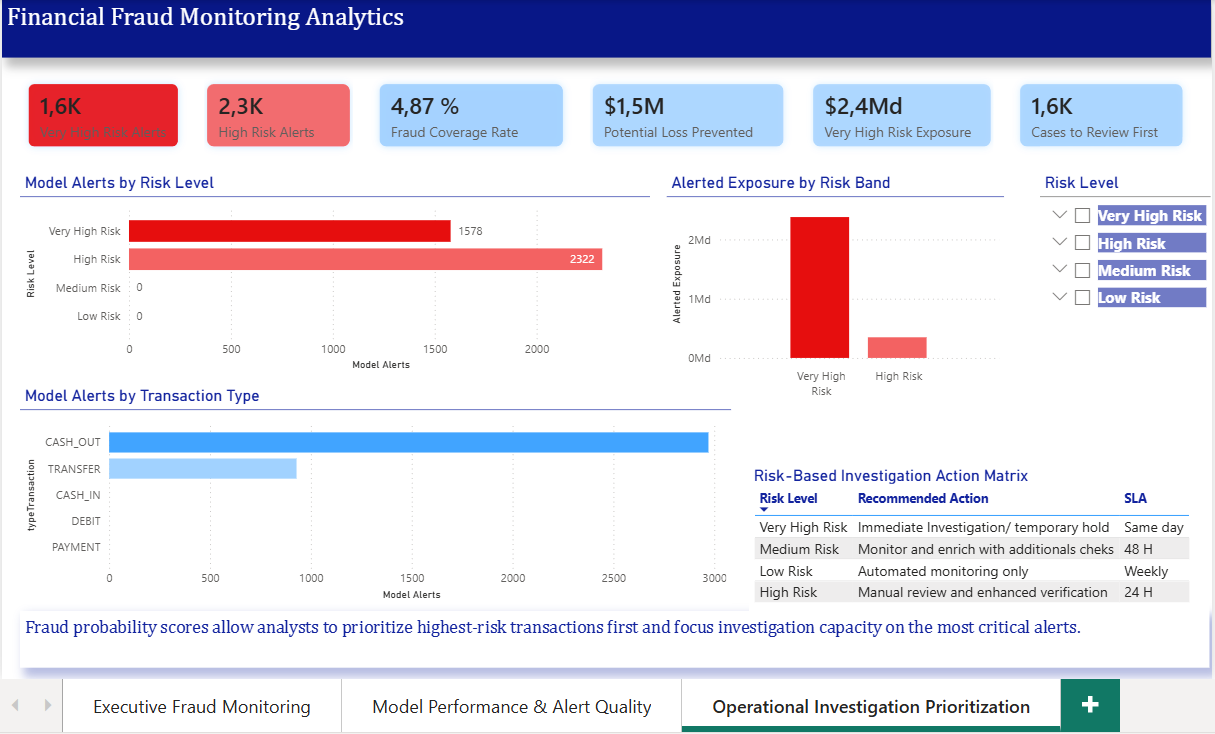

This screenshot's page, from the dashboard's own definition file:
{"tool":"powerbi","page":{"name":"Operational Investigation Prioritization","canvas":[1280,720],"ordinal":2},"visuals":[{"type":"cardVisual","fields":{"Data":["fraud_predictions.Very High Risk Exposure"]},"box":[830.2,61.9,244.4,122.2],"z":0},{"type":"cardVisual","fields":{"Data":["fraud_predictions.High Risk Alerts"]},"box":[188.9,61.9,207.9,122.2],"z":1000},{"type":"slicer","title":"Risk Level","fields":{"Values":["fraud_predictions.Risk Band","fraud_predictions.Risk Order"]},"box":[1098.4,184.1,181,246],"z":3000},{"type":"cardVisual","fields":{"Data":["fraud_predictions.Cases to Review First"]},"box":[1049.2,61.9,228.6,122.2],"z":4000},{"type":"cardVisual","fields":{"Data":["fraud_predictions.Avg Fraud Amount"]},"box":[596.8,61.9,258.7,122.2],"z":5000},{"type":"clusteredBarChart","title":"Model Alerts by Risk Level","fields":{"Category":["fraud_predictions.Risk Band"],"Y":["fraud_predictions.Model Alerts"]},"box":[19,184.1,666.7,212.7],"z":6000},{"type":"cardVisual","fields":{"Data":["fraud_predictions.Average Fraud Probability"]},"box":[371.4,61.9,250.8,122.2],"z":7000},{"type":"textbox","box":[19,647.6,1258.7,60.3],"z":8000},{"type":"cardVisual","fields":{"Data":["fraud_predictions.Very High Risk Alerts"]},"box":[0,61.9,214.3,122.2],"z":9000},{"type":"columnChart","title":"Alerted Exposure by Risk Band","fields":{"Category":["fraud_predictions.Risk Band"],"Y":["fraud_predictions.Alerted Exposure"]},"box":[703.2,184.1,357.1,246],"z":10000},{"type":"clusteredBarChart","title":"Model Alerts by Transaction Type","fields":{"Category":["fraud_predictions.typeTransaction"],"Y":["fraud_predictions.Model Alerts"]},"box":[19,409.5,752.4,230.2],"z":11000},{"type":"tableEx","title":"Risk-Based Investigation Action Matrix","fields":{"Values":["Table.Colonne 1","Table.Colonne 2","Table.Colonne 3"]},"box":[790.5,493.7,487.3,154],"z":12000},{"type":"textbox","box":[0,0,1279.4,61.8],"z":13000}]}

Visuals, with their boxes on the page's 1280x720 design canvas (x1, y1, x2, y2). These are canvas units, not pixel positions in the 1215x734 screenshot, which may show the page scaled, cropped or inside an application window:
cardVisual - fraud_predictions.Very High Risk Exposure: bbox(830, 62, 1075, 184)
cardVisual - fraud_predictions.High Risk Alerts: bbox(189, 62, 397, 184)
"Risk Level" slicer: bbox(1098, 184, 1279, 430)
cardVisual - fraud_predictions.Cases to Review First: bbox(1049, 62, 1278, 184)
cardVisual - fraud_predictions.Avg Fraud Amount: bbox(597, 62, 856, 184)
"Model Alerts by Risk Level" clusteredBarChart: bbox(19, 184, 686, 397)
cardVisual - fraud_predictions.Average Fraud Probability: bbox(371, 62, 622, 184)
textbox: bbox(19, 648, 1278, 708)
cardVisual - fraud_predictions.Very High Risk Alerts: bbox(0, 62, 214, 184)
"Alerted Exposure by Risk Band" columnChart: bbox(703, 184, 1060, 430)
"Model Alerts by Transaction Type" clusteredBarChart: bbox(19, 410, 771, 640)
"Risk-Based Investigation Action Matrix" tableEx: bbox(790, 494, 1278, 648)
textbox: bbox(0, 0, 1279, 62)
